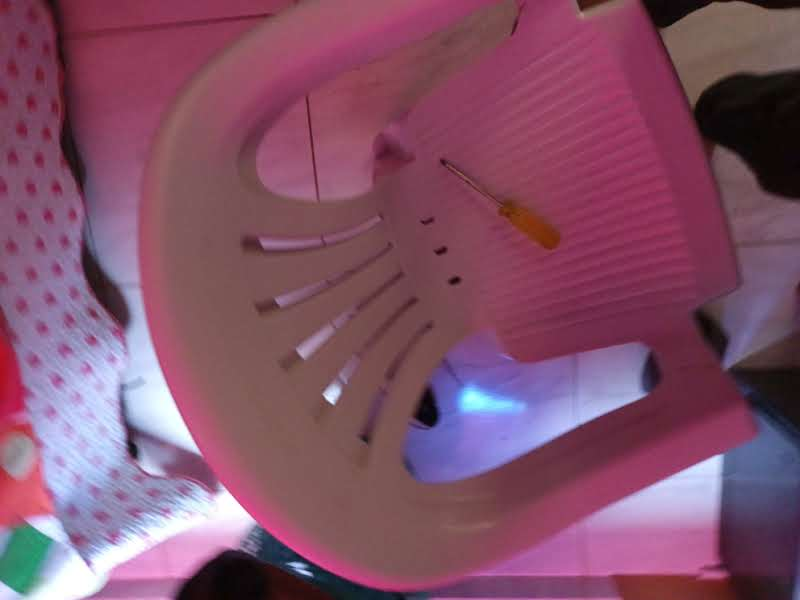Destornillador: (441, 158, 560, 248)
